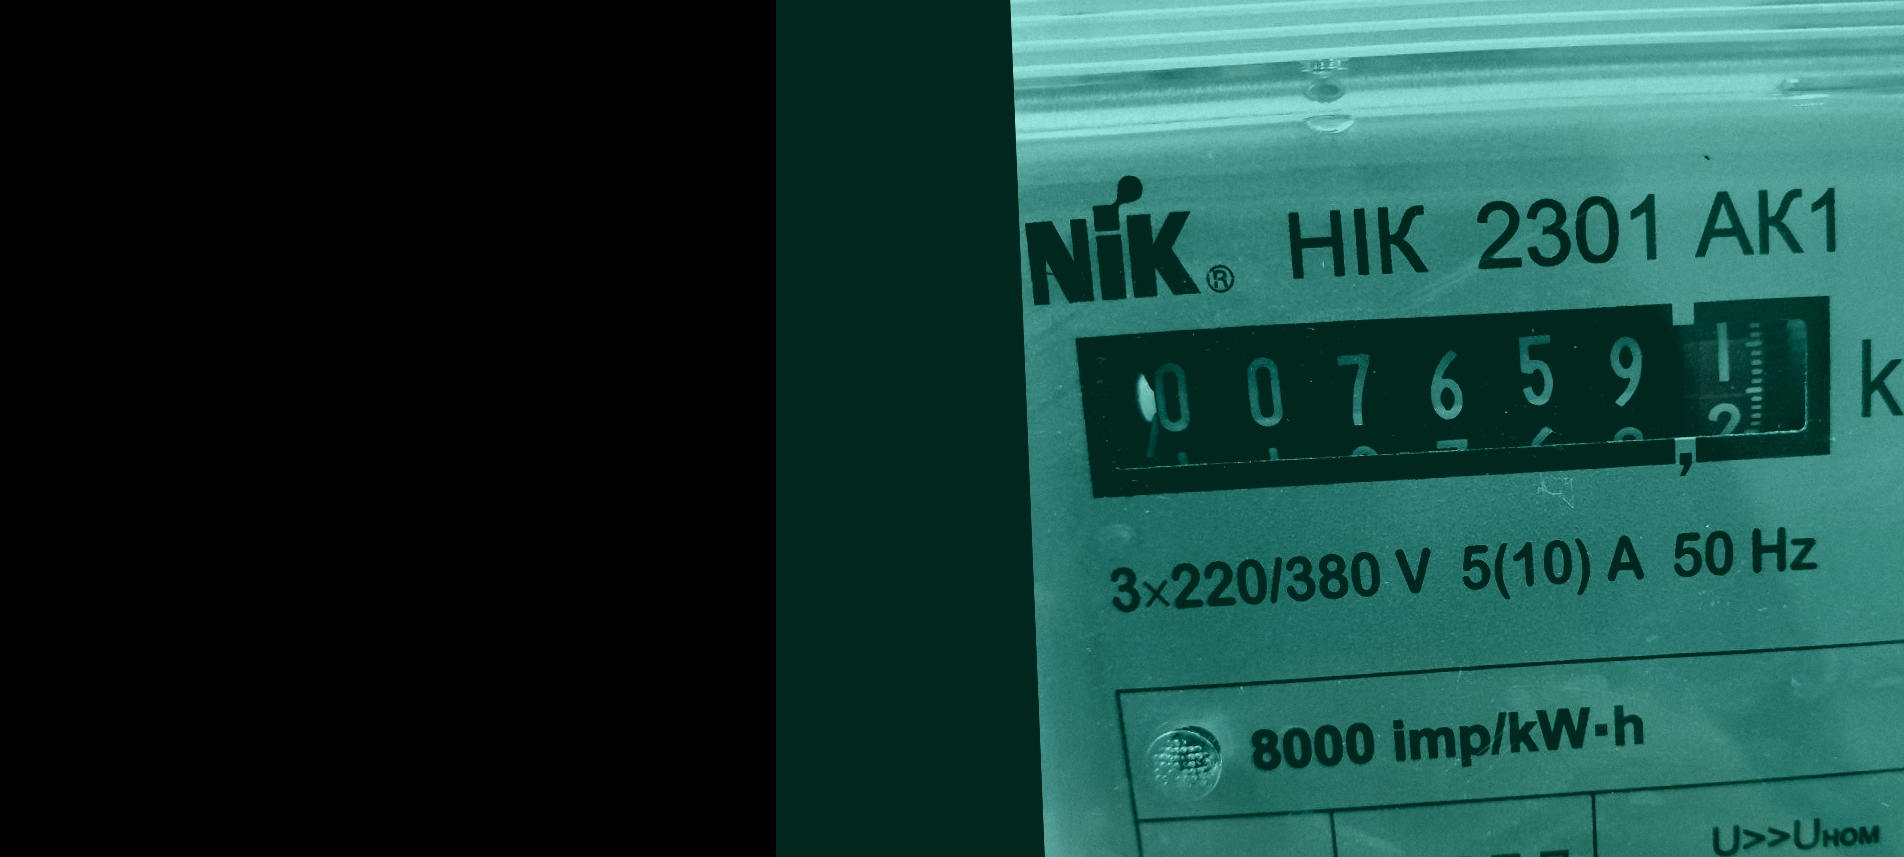0: (1232, 345, 1292, 435), (1145, 350, 1198, 442)
1: (1706, 313, 1742, 388)
5: (1511, 327, 1560, 410)
6: (1418, 339, 1472, 424)
7: (1331, 345, 1376, 432)
9: (1603, 327, 1649, 416)
screen: (1055, 273, 1857, 520)
